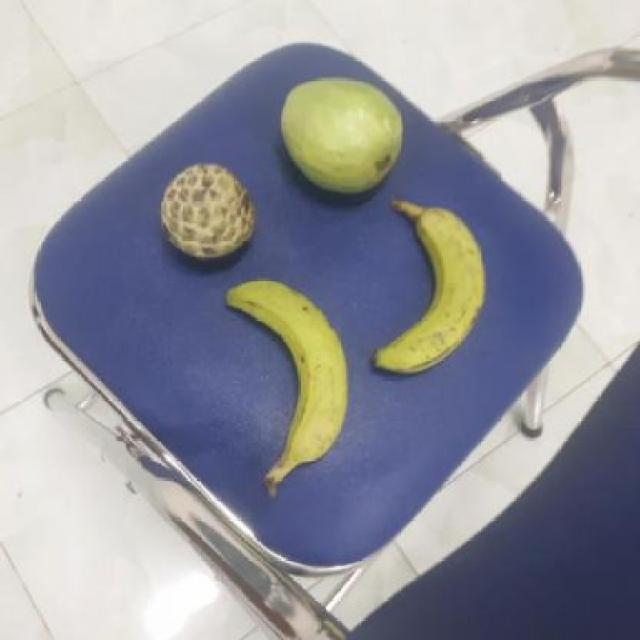banana: (222, 279, 349, 470), (362, 199, 487, 370)
guava: (277, 74, 406, 197)
sugar apple: (155, 163, 254, 260)
